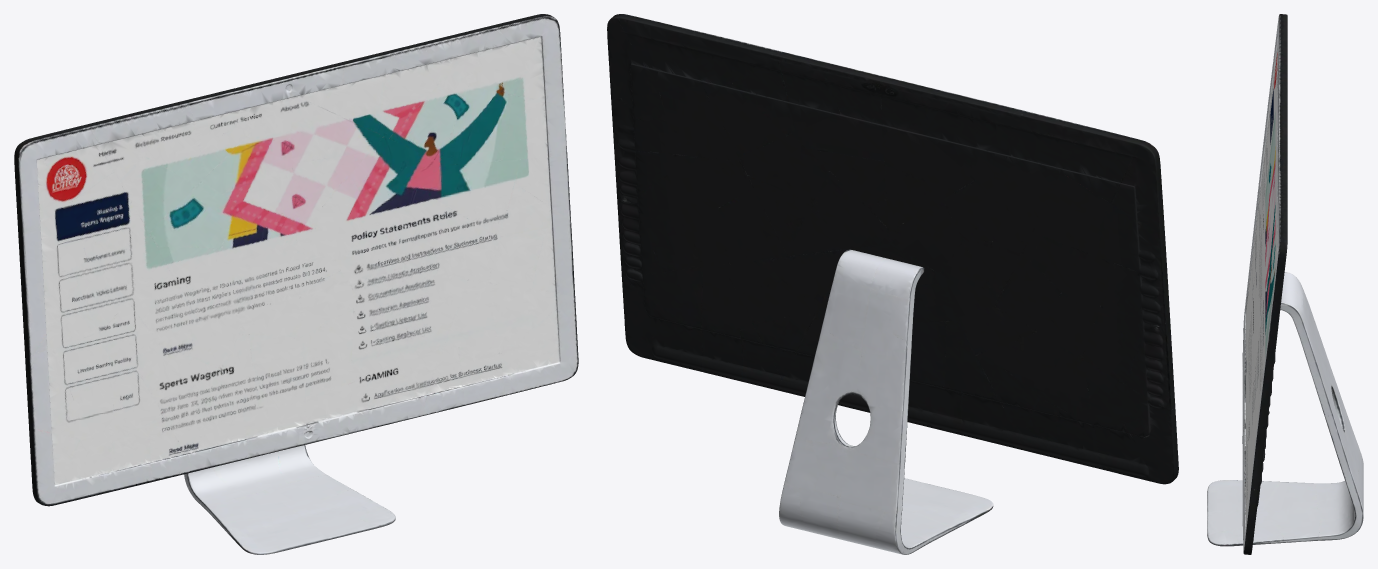
The model's file is sleek-desk-polard.glb.
3 renders of one model, left to right at view 1: azimuth 30°, elevation 25°; view 2: azimuth 150°, elevation 25°; view 3: azimuth 270°, elevation 25°, orthographic. The views are drawn at different scales.
Size of the model in its own units: 1.9 by 1.45 by 0.5309.
1 material, 1 textured.
